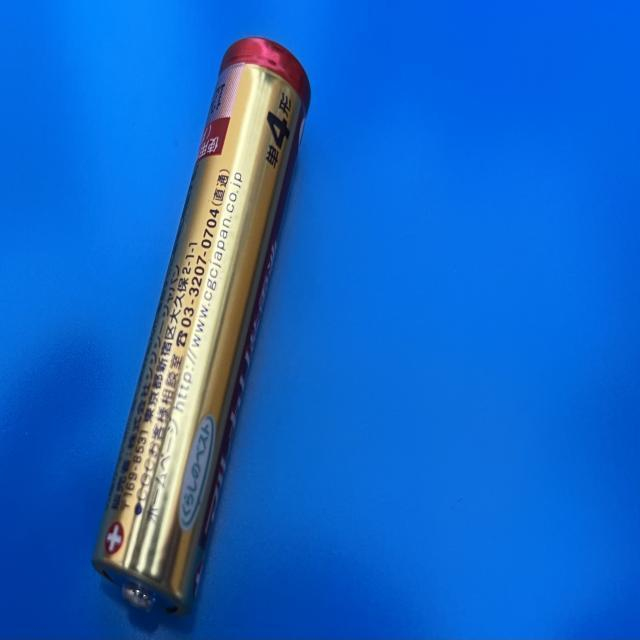AAA: (90, 36, 312, 622)
